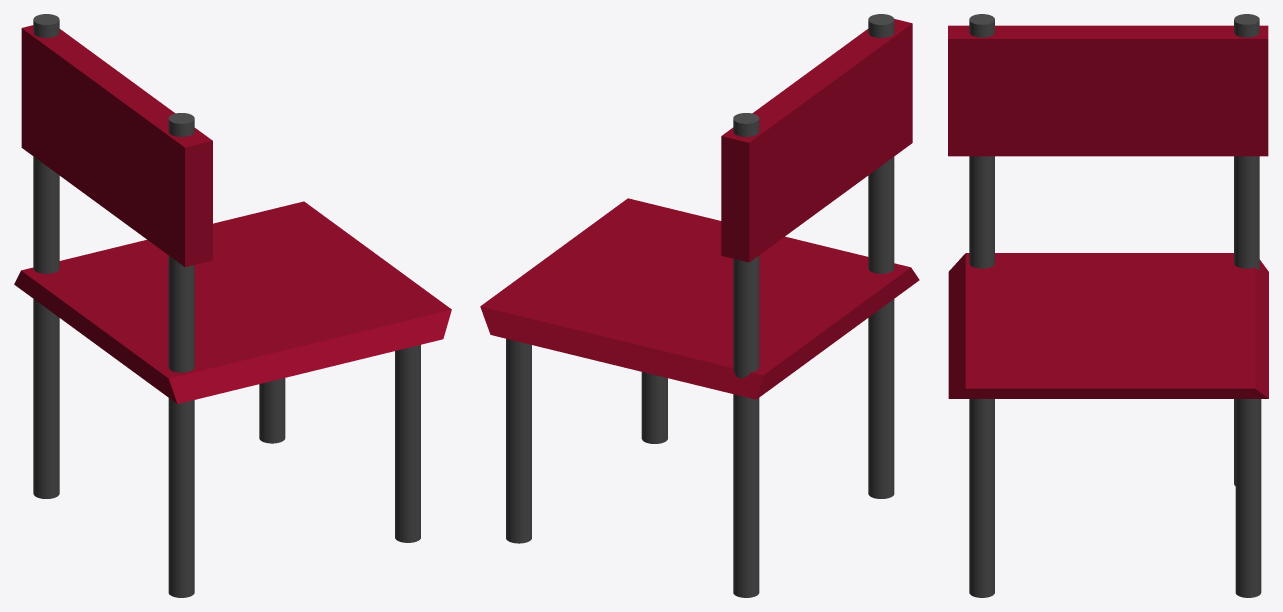
Rendered from CanteenChair.fbx.
3 renders of one model, left to right at view 1: azimuth 30°, elevation 25°; view 2: azimuth 150°, elevation 25°; view 3: azimuth 270°, elevation 25°, orthographic. The views are drawn at different scales.
Visible parts, largest first — view 1: Cube, Cube.001, Cylinder.004, Cylinder.005, Cylinder.001, Cylinder.002; view 2: Cube, Cube.001, Cylinder.005, Cylinder.004, Cylinder.002, Cylinder.001; view 3: Cube, Cube.001, Cylinder.002, Cylinder.001, Cylinder.005, Cylinder.004.
Boxes of the visible parts, left/top/right/bottom form: Cube: left=14, top=201, right=451, bottom=403; Cube.001: left=21, top=25, right=212, bottom=266; Cylinder.004: left=168, top=113, right=194, bottom=597; Cylinder.005: left=33, top=14, right=59, bottom=498; Cylinder.001: left=395, top=345, right=420, bottom=542; Cylinder.002: left=259, top=378, right=285, bottom=443; Cube: left=480, top=198, right=919, bottom=399; Cube.001: left=721, top=19, right=912, bottom=262; Cylinder.005: left=733, top=113, right=759, bottom=597; Cylinder.004: left=868, top=14, right=894, bottom=498; Cylinder.002: left=506, top=338, right=531, bottom=543; Cylinder.001: left=641, top=372, right=667, bottom=443; Cube: left=948, top=253, right=1268, bottom=398; Cube.001: left=948, top=25, right=1268, bottom=156; Cylinder.002: left=1235, top=399, right=1261, bottom=597; Cylinder.001: left=969, top=399, right=994, bottom=597; Cylinder.005: left=1234, top=14, right=1259, bottom=485; Cylinder.004: left=969, top=14, right=994, bottom=268.
Size of the model in its own units: 50 by 80.04 by 50.06.
